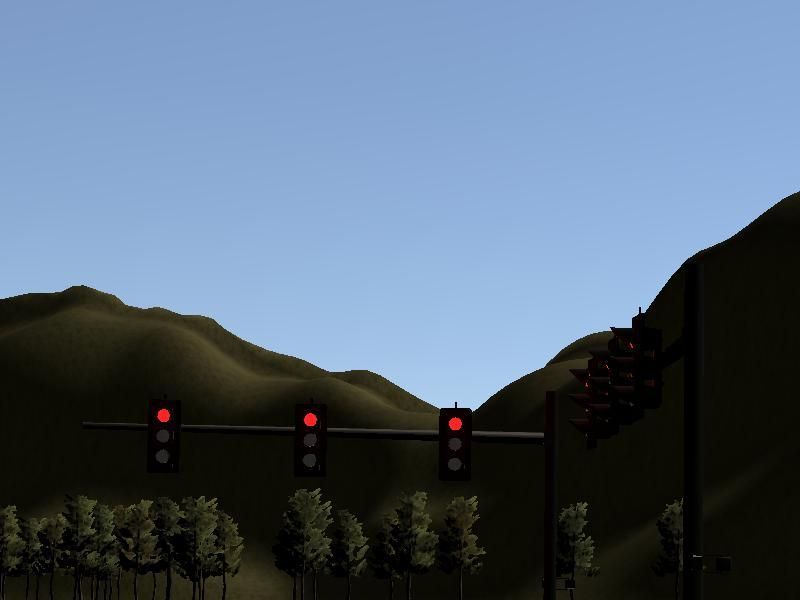Red: (437, 408, 471, 483), (297, 405, 329, 482), (147, 400, 178, 479)
